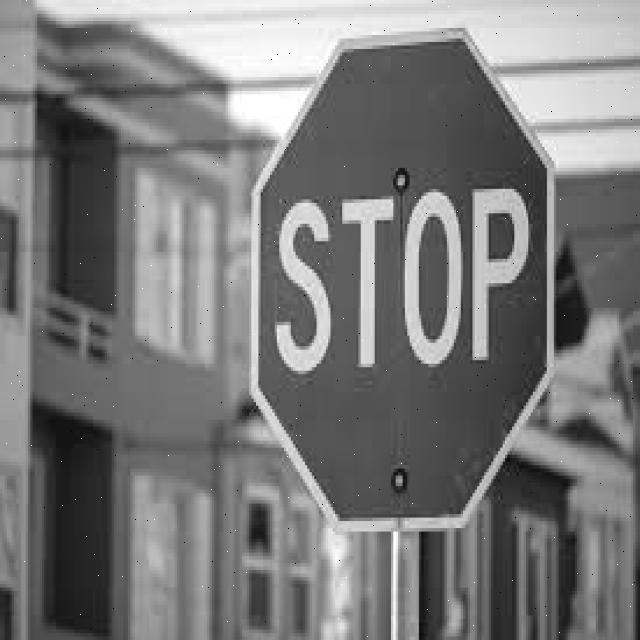stop sign: (253, 34, 555, 531)
